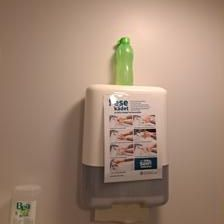bottle: (108, 33, 135, 87)
